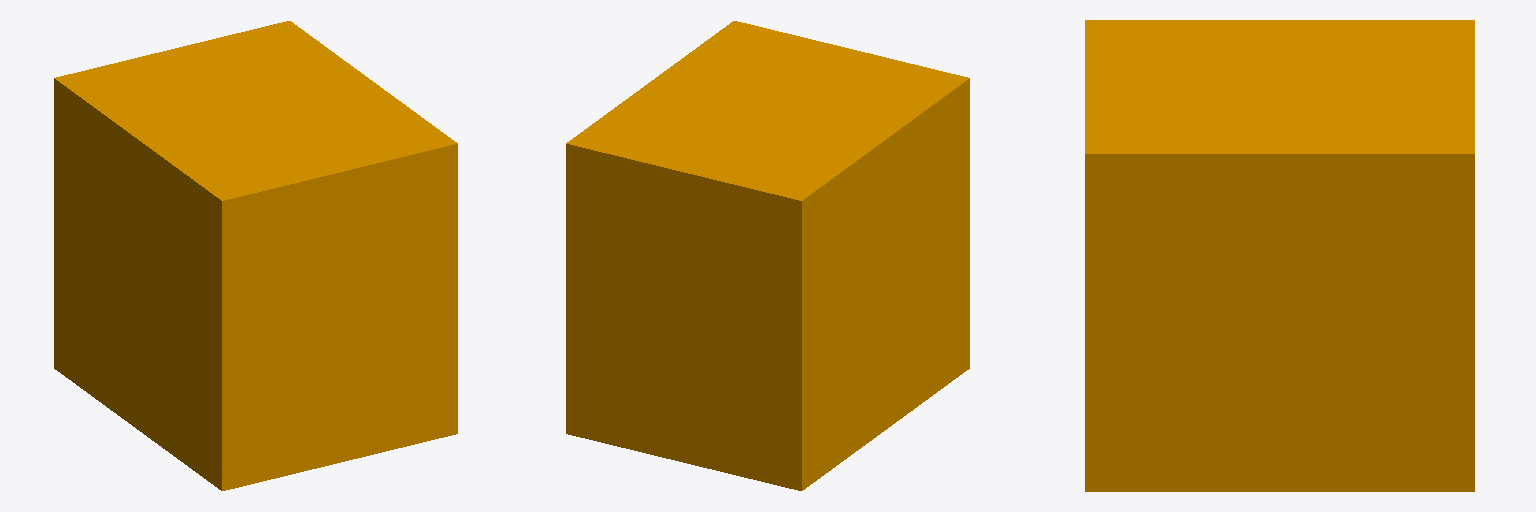
robot.urdf — object:
<robot name="object">
  <link name="object">
    <visual>
      <origin xyz="0 0 0" />
      <geometry>
        <box size="0.068 0.08400000000000002 0.08" />
      </geometry>
    </visual>

    <collision>
      <origin xyz="0 0 0" />
      <geometry>
        <box size="0.068 0.08400000000000002 0.08" />
      </geometry>
    </collision>

    <inertial>
      <mass value="0.05" />
      <inertia ixx="0.0001" ixy="0.0" ixz="0.0" iyy="0.0001" iyz="0.0" izz="0.0001" />
    </inertial>
  </link>
</robot>

--- Render facts (derived) ---
3 views of the same robot in one strip: view 1: azimuth 30°, elevation 25°; view 2: azimuth 150°, elevation 25°; view 3: azimuth 270°, elevation 25° (orthographic).
Model object with 1 links and 0 joints (none), rooted at object, posed all joints at 0.
Links seen in each view (by area): view 1: object; view 2: object; view 3: object.
Link boxes in pixels (bbox=[...]): object: bbox=[54, 21, 457, 490]; object: bbox=[566, 21, 969, 490]; object: bbox=[1085, 20, 1474, 491].
Size in the robot's own frame: 0.068 by 0.084 by 0.08 metres.
Geometry: primitives only (box / cylinder / sphere), no mesh files.